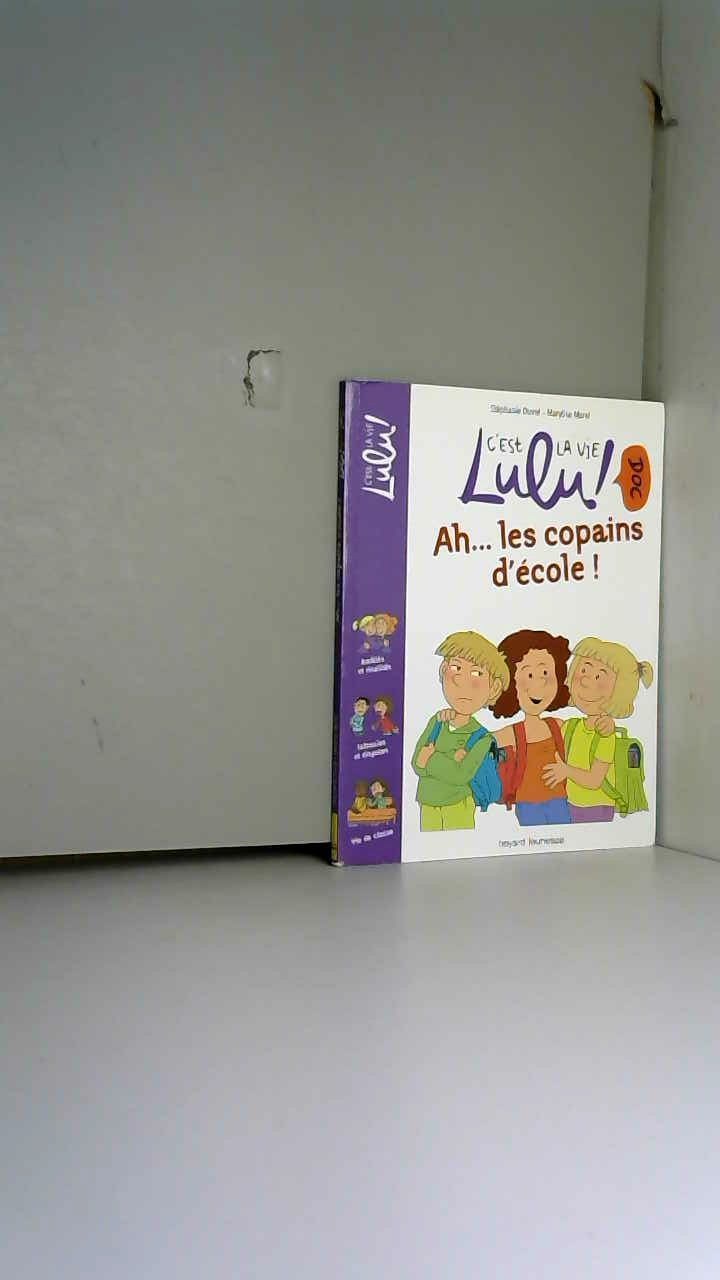book: (300, 350, 716, 895)
